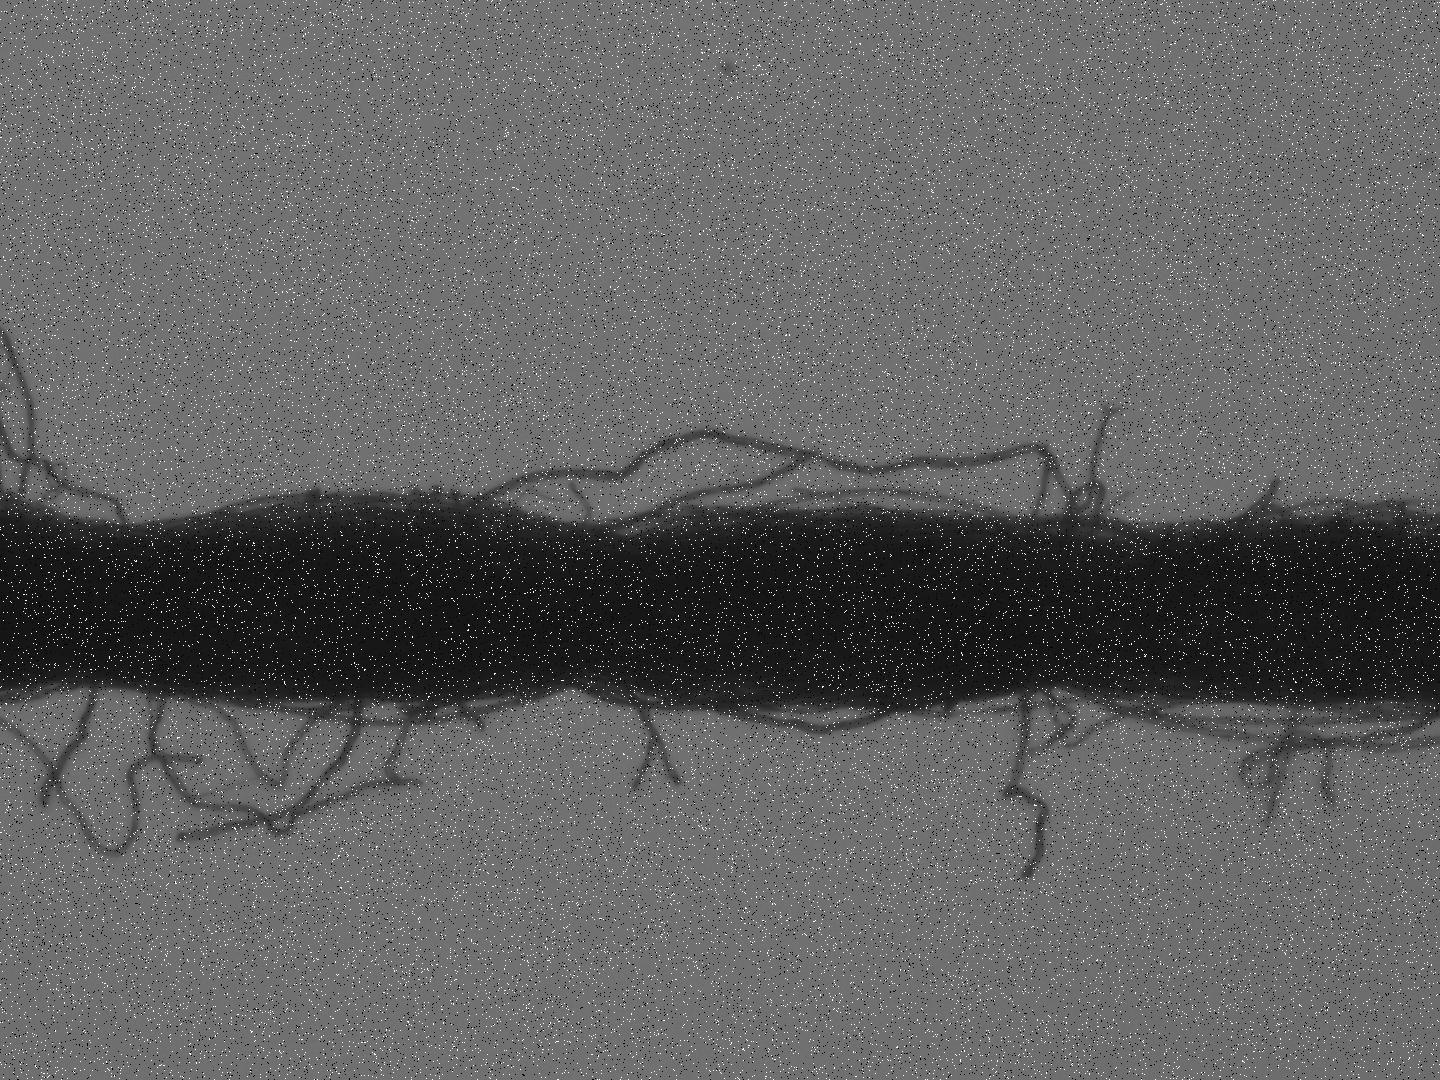loop_fiber: (1064, 686, 1428, 746), (183, 693, 350, 794), (211, 478, 472, 526), (8, 448, 136, 533), (1034, 683, 1187, 753), (739, 484, 1015, 523), (689, 698, 899, 743), (1198, 473, 1294, 533), (1047, 479, 1115, 549), (1325, 496, 1429, 531)
protruding_fiber: (33, 675, 109, 821), (612, 677, 685, 790)
